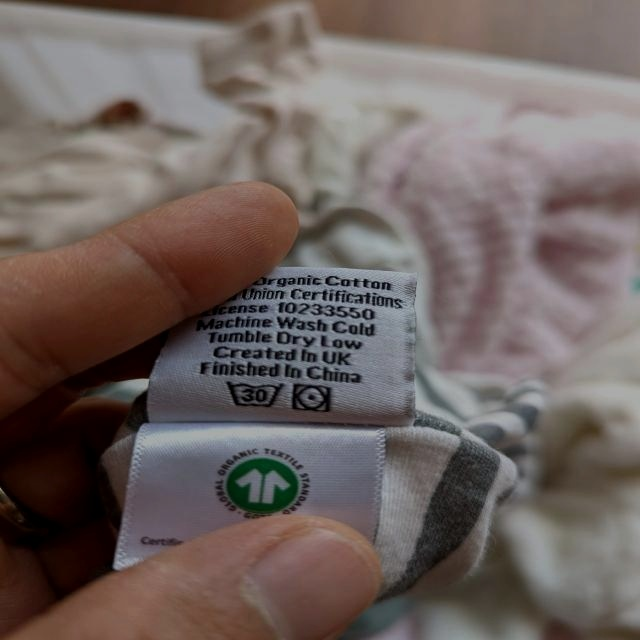30C: (221, 377, 286, 411)
tumble_dry_low: (290, 381, 334, 416)
